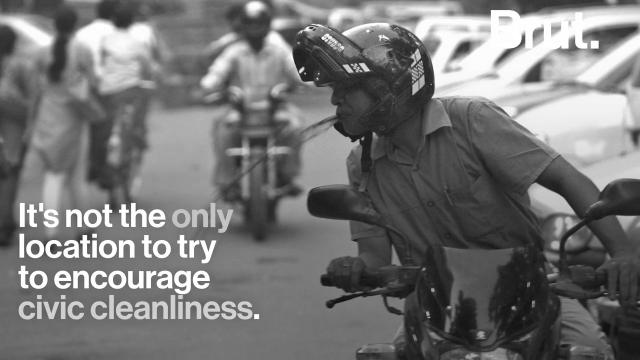spit: (210, 85, 361, 208)
